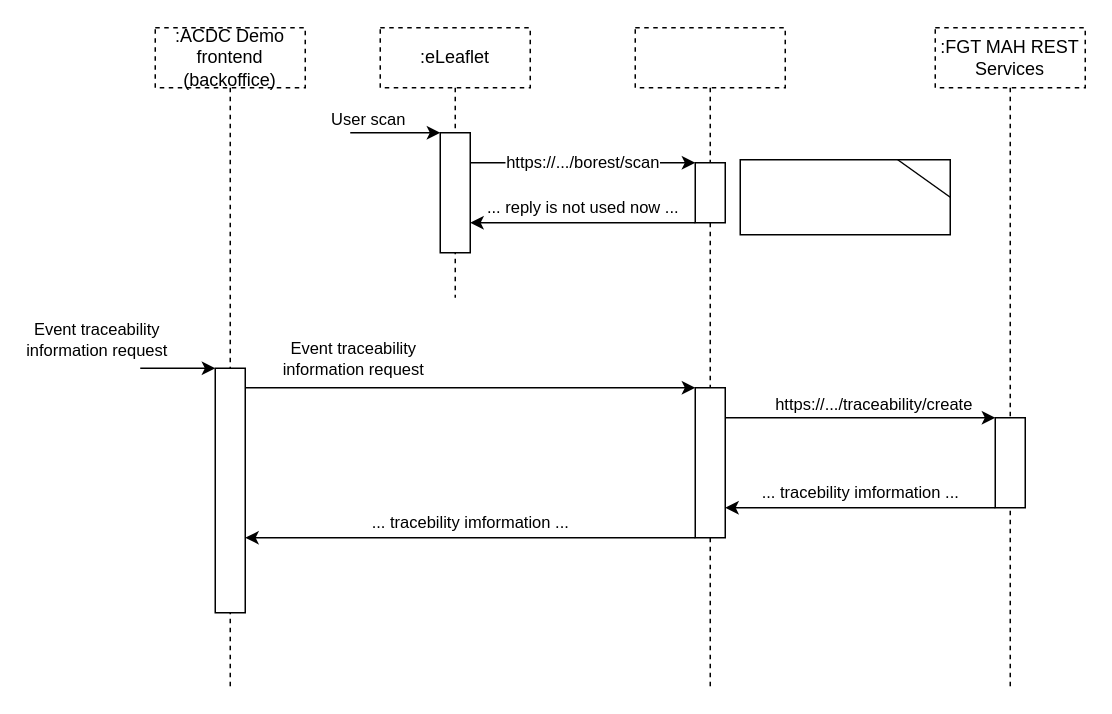
Image size: 1112x714. Some labels were removed from this diagram. The box of each missing label's shape, as (x1, y1, x2, y2) in pixels:
:ACDC Demo REST Services: (634, 26, 785, 688)
Event information is just stored.: (739, 158, 950, 235)
